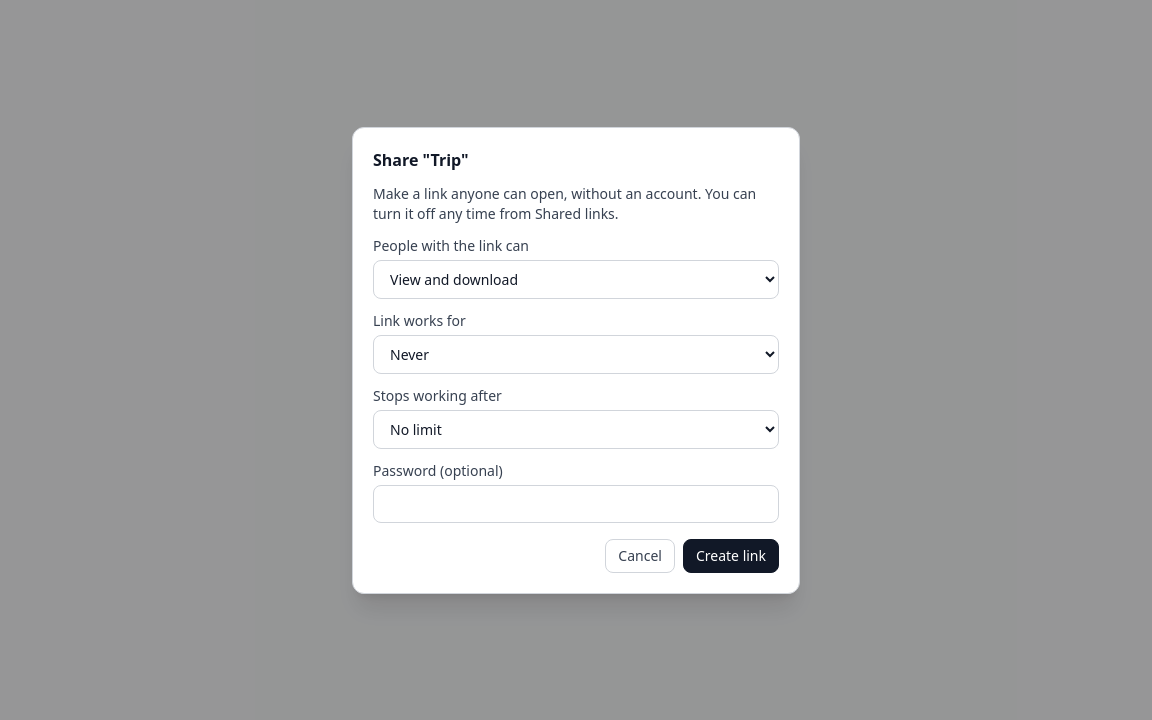
Scenario: ShareDialog › can make an edit link and warns about it
This screenshot has width=1152, height=720.
Select "Add, rename and delete files" in the dropdown labelled "People with the link can" at coordinates (576, 279), box x1=373 y1=260 x2=779 y2=298
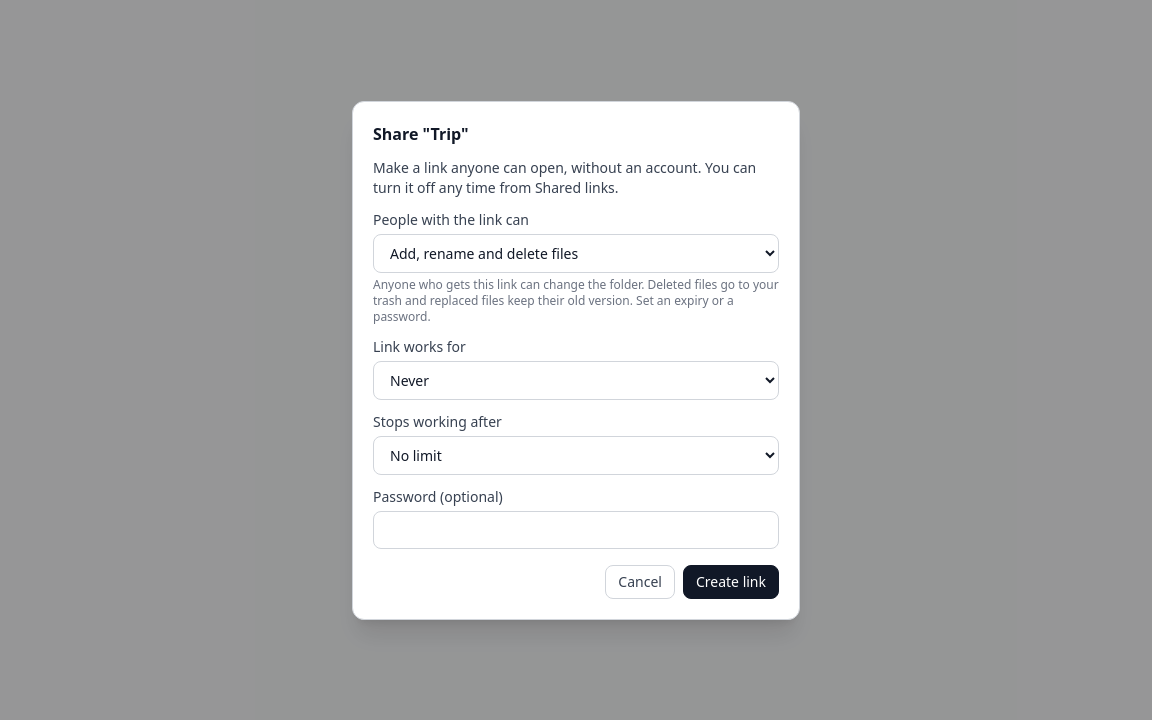
Expected: the text "Anyone who gets this link can change" is shown, x1=373 y1=276 x2=610 y2=292
Click the button "Create link".
click(731, 582)  # box x1=683 y1=564 x2=779 y2=598
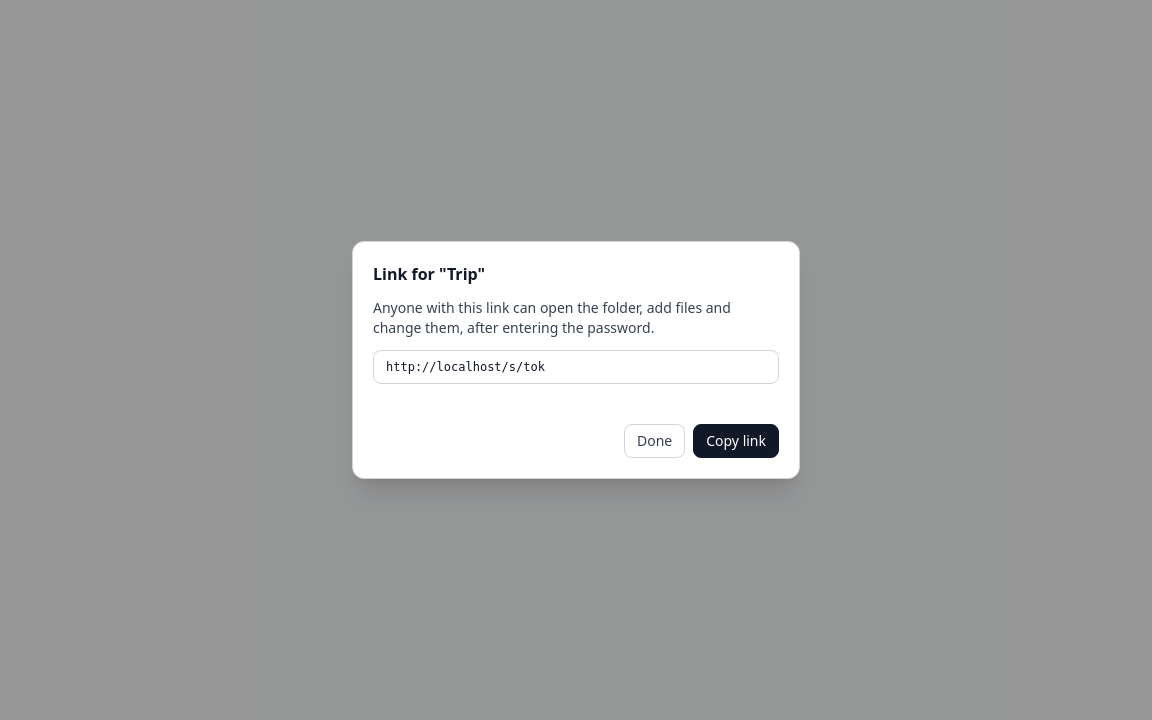
Expected: the text "add files and change them" is shown, x1=373 y1=298 x2=731 y2=337
